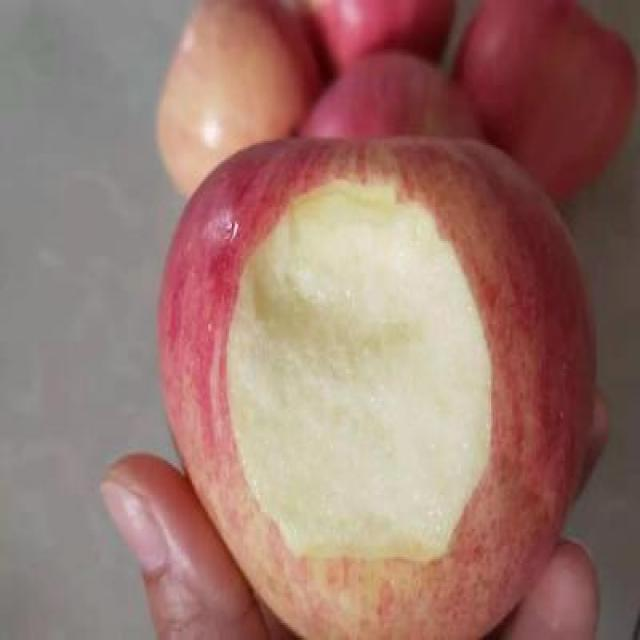Rotten: (170, 145, 571, 640)
